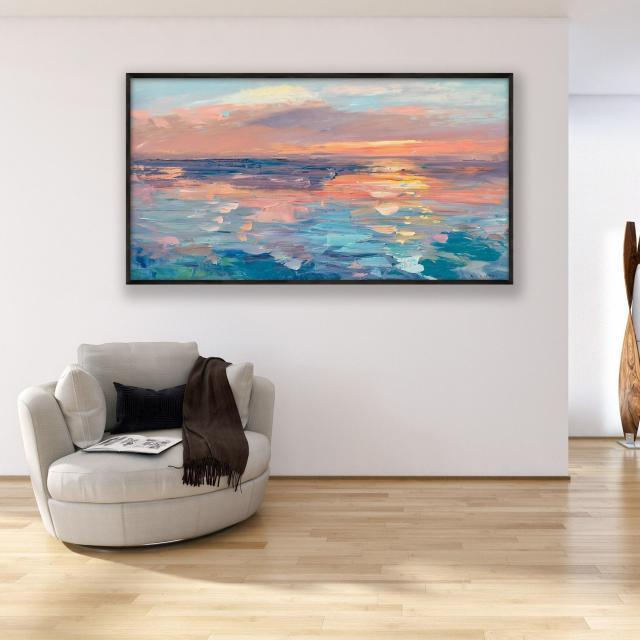painting: (126, 73, 512, 283)
